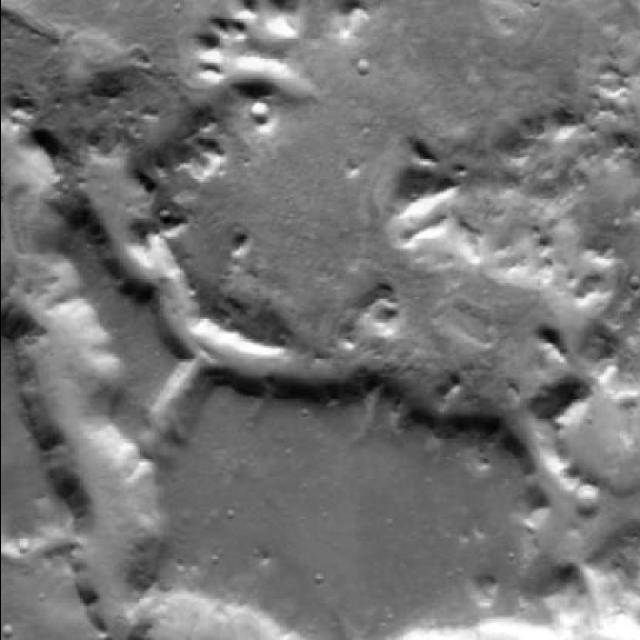crater: (374, 154, 614, 426), (572, 482, 602, 514), (248, 106, 266, 126)
